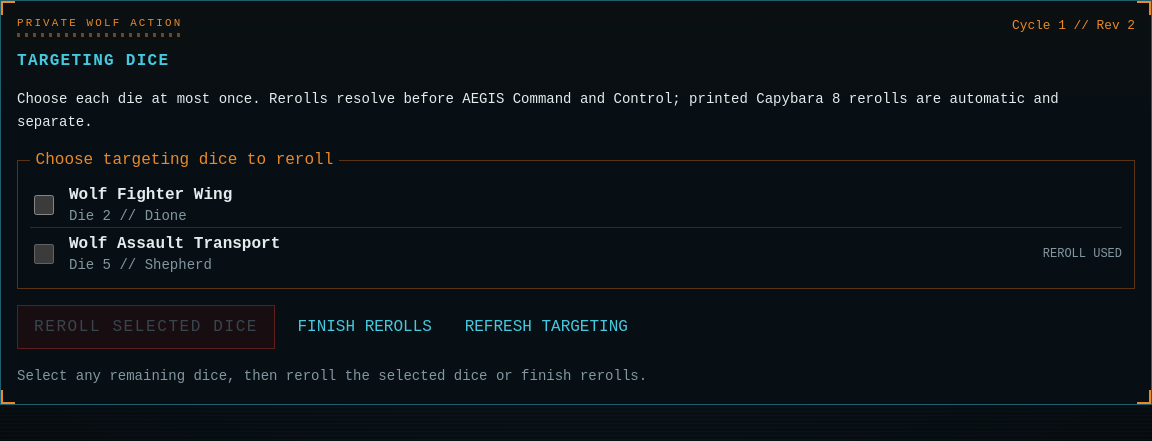
Scenario: drops a stale targeting view after finish is rejected until refreshed
Expected: the text "Die 2 // Dione" is shown, [69, 208, 187, 224]
Click the button "Finish rerolls": (365, 327) [287, 305, 442, 349]
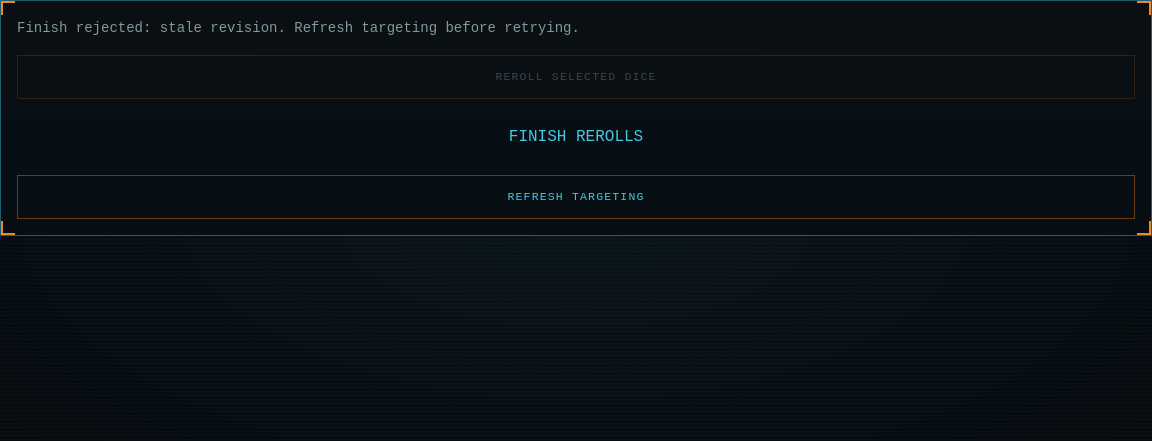
Expected: the text "Finish rejected: stale revision. Refresh targeting before retrying." is shown, [17, 20, 580, 36]
Expected: the text "Die 2 // Dione" is gone
Expected: the button "Finish rerolls" is disabled, [17, 115, 1135, 159]
